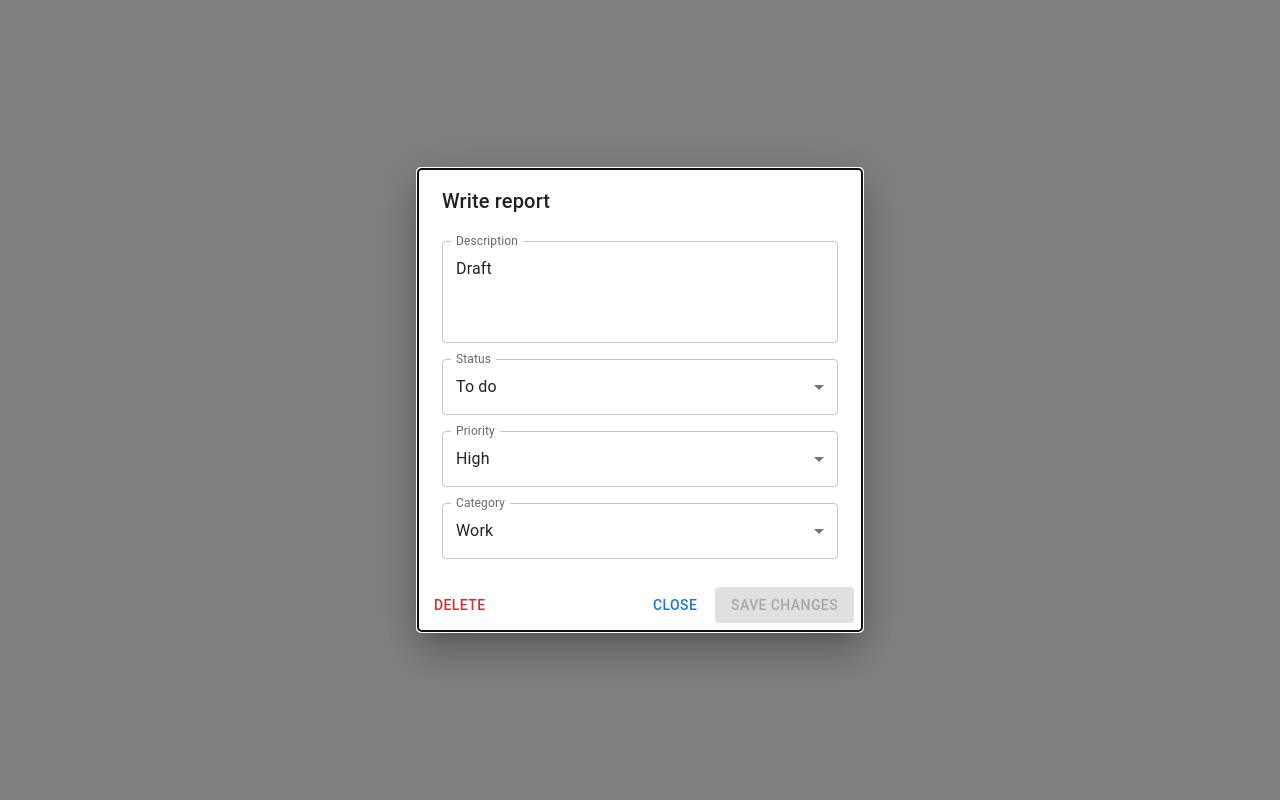
Test case: shows the error of the server when saving fails
Type " - reviewed" into the text box labelled "Description".
click(640, 292); type(" - reviewed")  # box top-left (456, 257), bottom-right (824, 326)
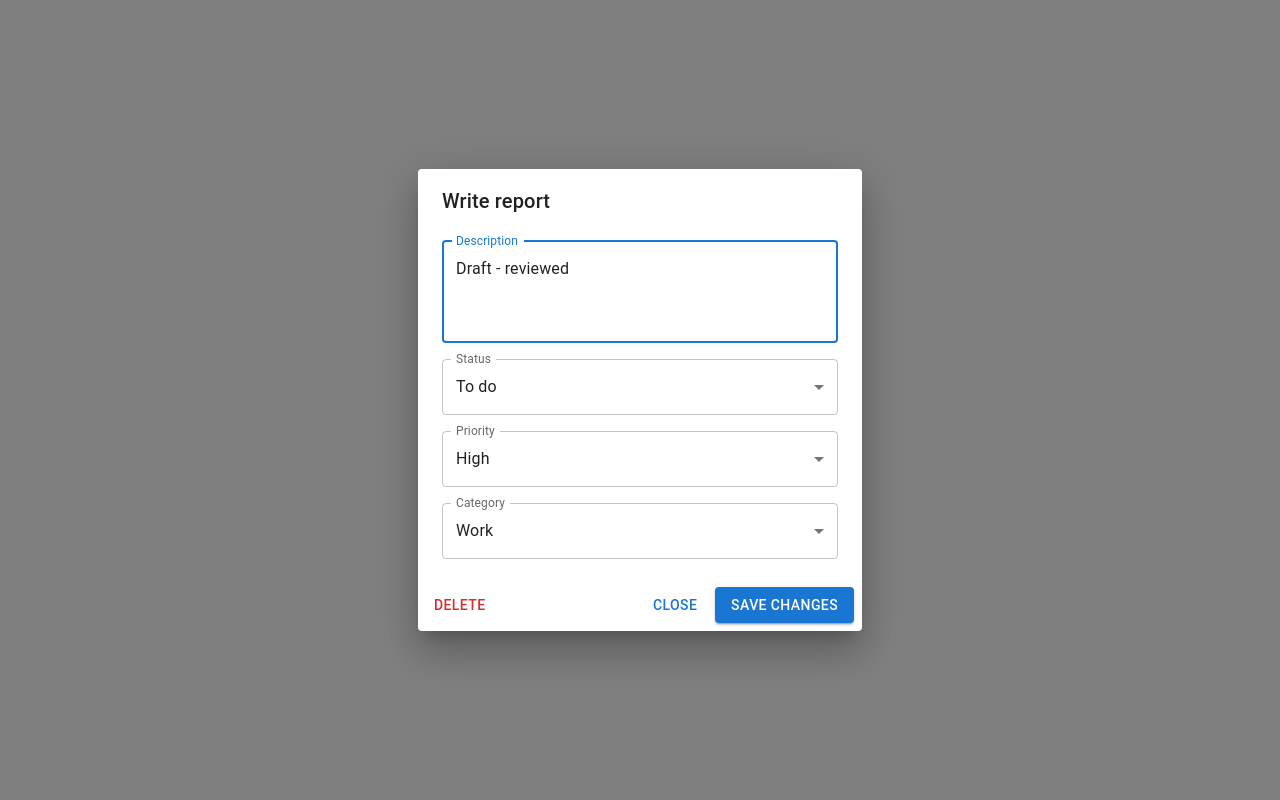
Click the button "Save changes".
click(785, 605)  # box top-left (715, 587), bottom-right (854, 623)
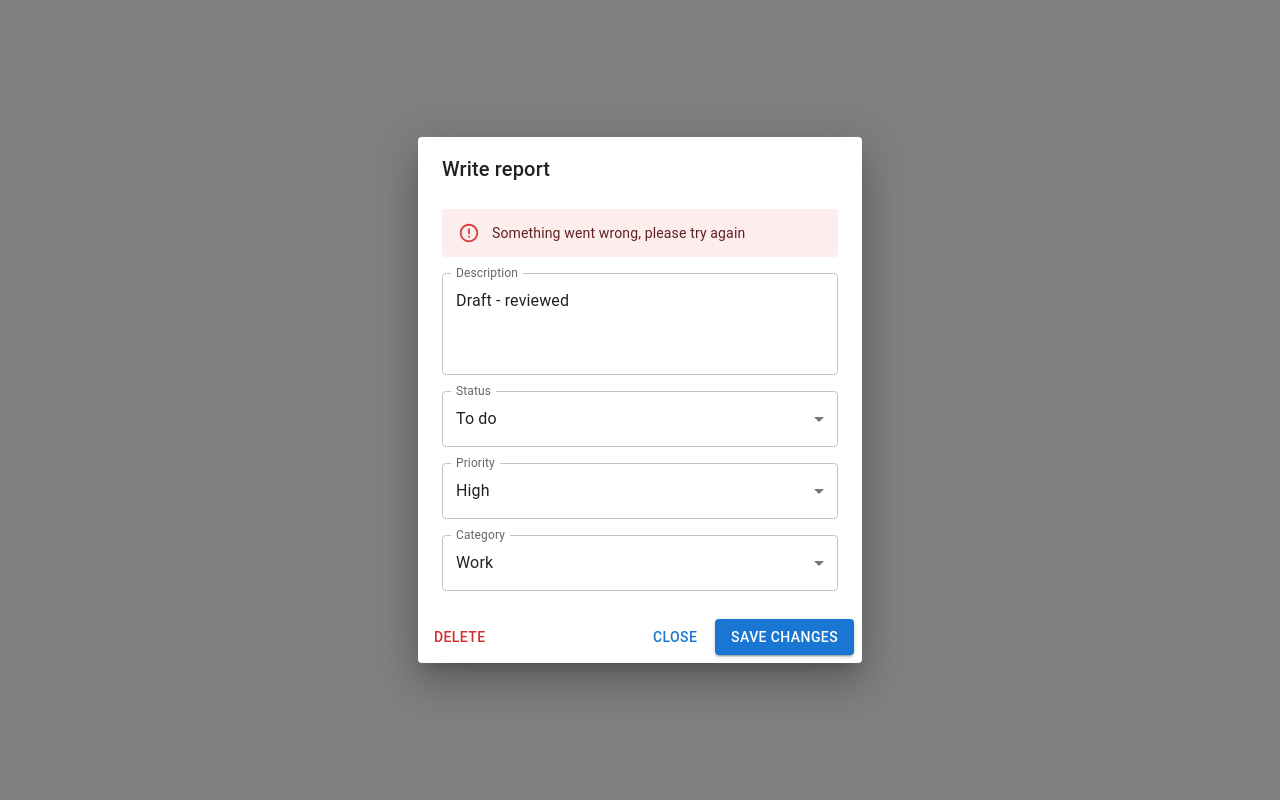
Expected: the message "Something went wrong, please try again" is shown, top-left (442, 209), bottom-right (838, 257)
